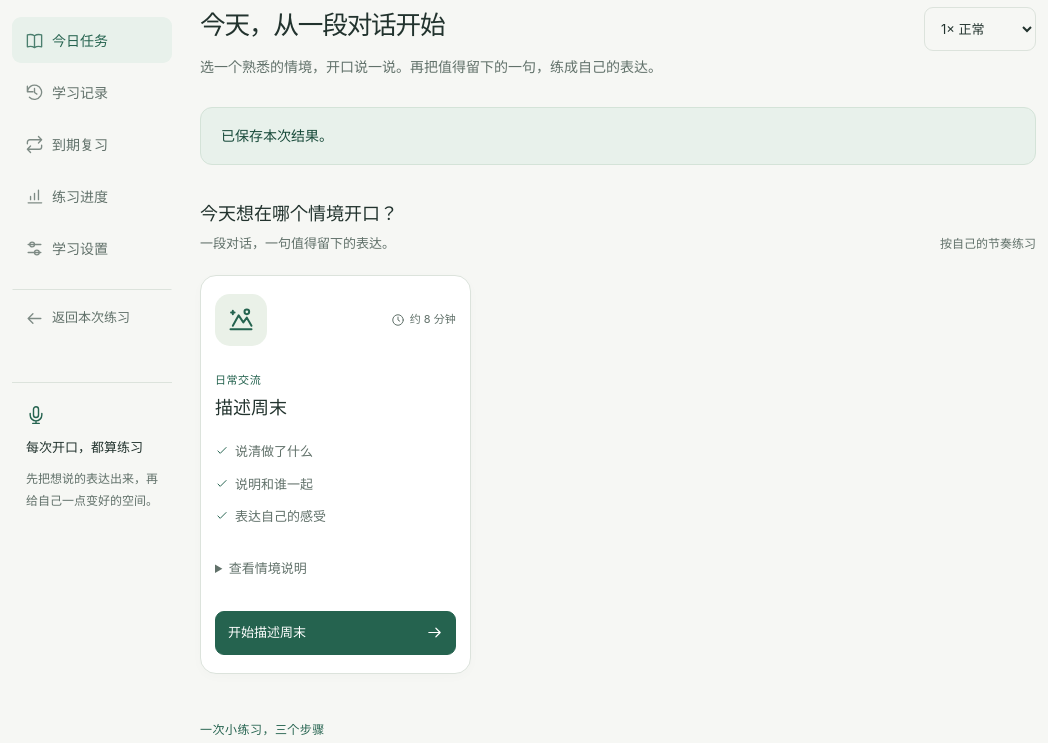
Test case: learning workflow › restores a server operation on reload without creating a second session
This screenshot has width=1048, height=743.
Click the button "返回本次练习".
click(92, 314)  # box 12,289 -> 172,338
(page scrolled)
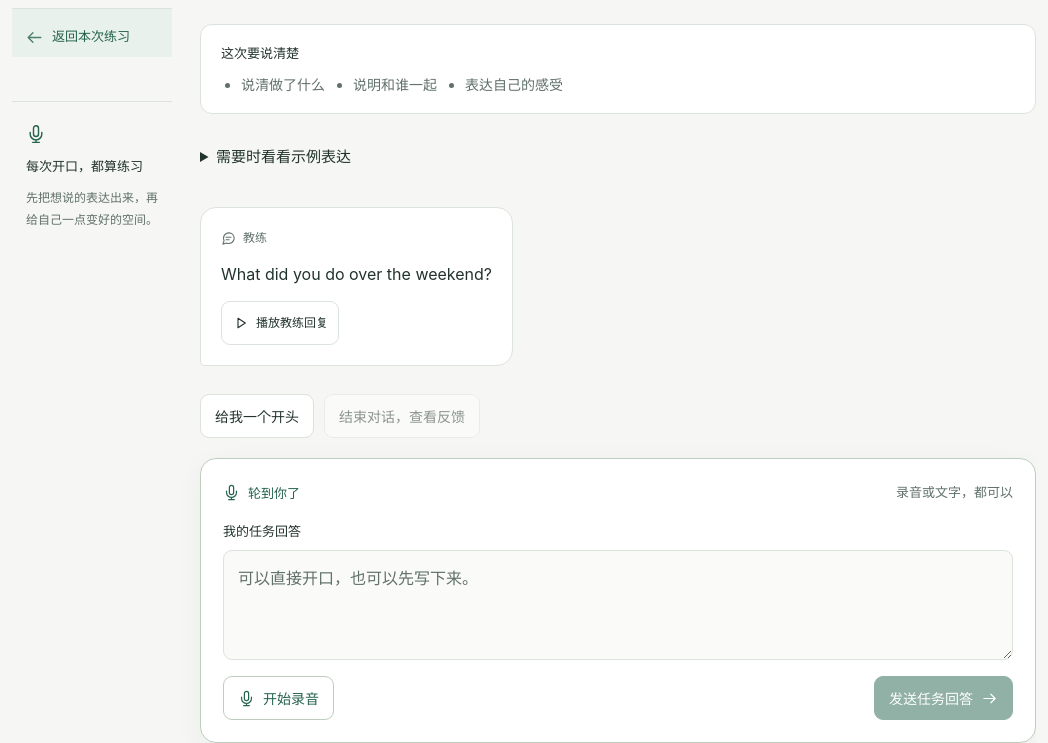
expect the text box labelled "我的任务回答" is shown: met, box 223,550 -> 1013,660
